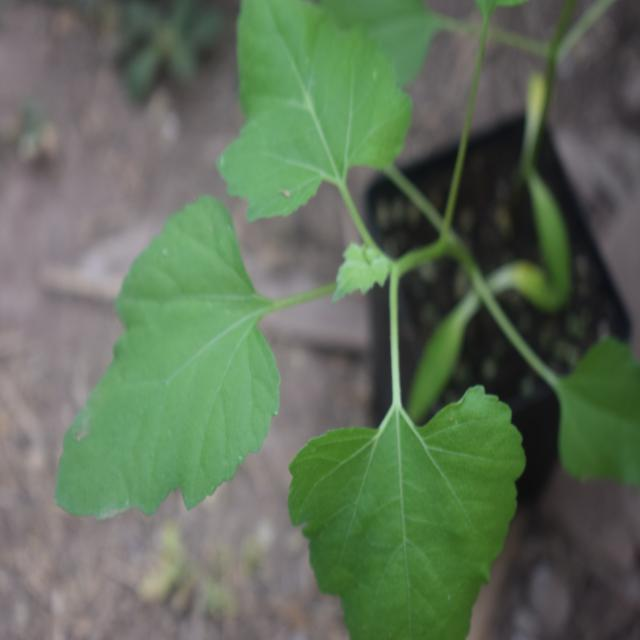cocklebur: (78, 10, 517, 618)
